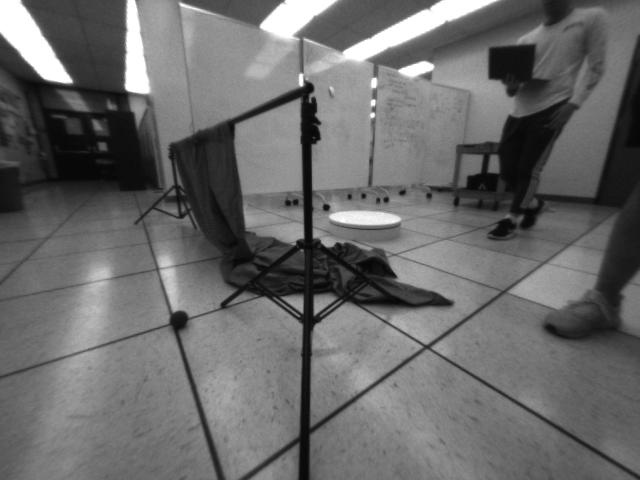dogtoy: (166, 306, 193, 333)
